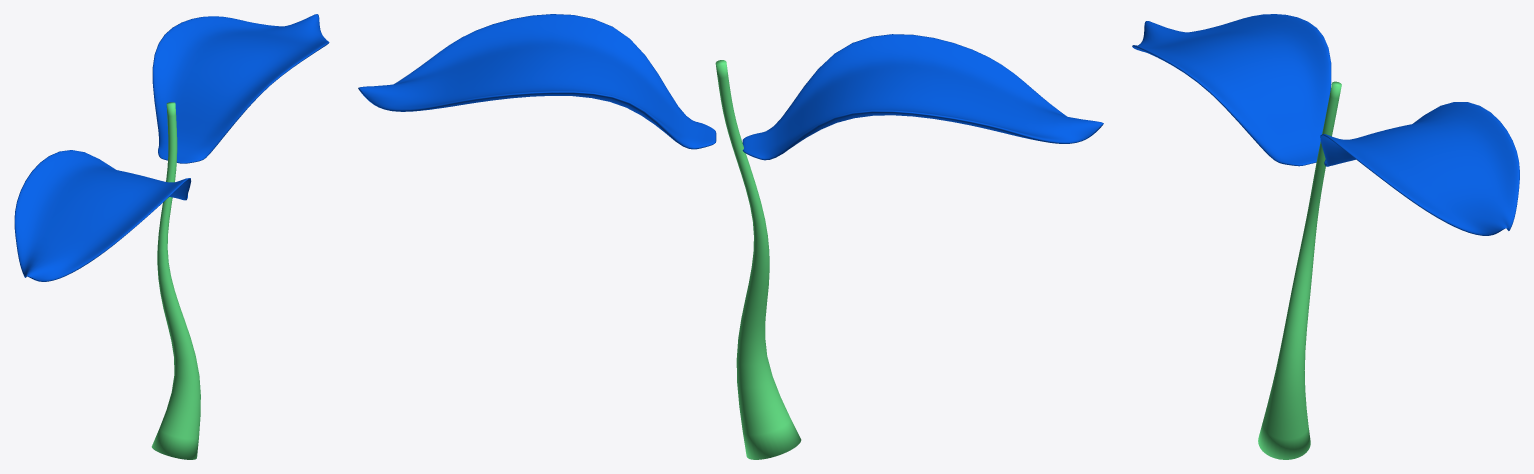
File: RainPlant#2.fbx
The picture shows the model from 3 angles, left to right: view 1: azimuth 30°, elevation 25°; view 2: azimuth 150°, elevation 25°; view 3: azimuth 270°, elevation 25°; orthographic projection. The views are drawn at different scales.
Visible parts, largest first — view 1: Plane.003, Plane.006, Vert.005; view 2: Plane.006, Plane.003, Vert.005; view 3: Plane.006, Plane.003, Vert.005.
Part boxes in pixels (box(x1,y1,x2,y2)): Plane.003: box(152, 14, 329, 163); Plane.006: box(14, 150, 191, 281); Vert.005: box(151, 102, 200, 459); Plane.006: box(742, 34, 1103, 160); Plane.003: box(358, 14, 716, 149); Vert.005: box(715, 60, 801, 459); Plane.006: box(1132, 14, 1331, 166); Plane.003: box(1320, 102, 1519, 235); Vert.005: box(1258, 81, 1341, 459).
Bounding box in the file's own units: 400 × 291 × 264.
